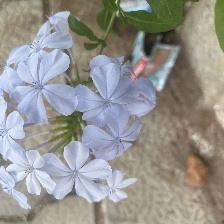chitrak: (12, 57, 75, 119), (42, 143, 109, 201), (75, 61, 129, 125), (89, 106, 149, 156), (5, 146, 54, 192), (98, 167, 139, 207), (1, 97, 28, 155)
